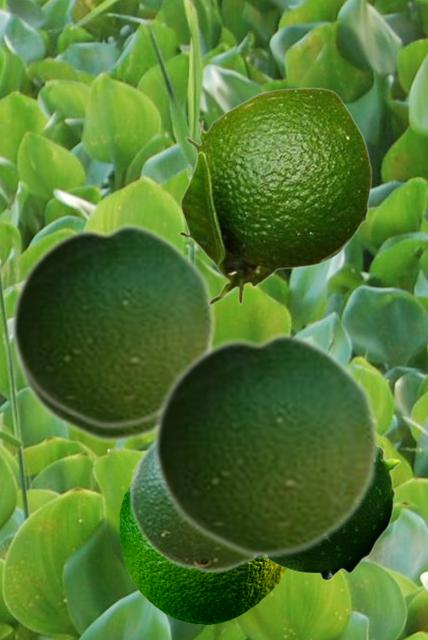dalandan: (151, 329, 380, 560), (9, 220, 216, 430), (177, 87, 371, 305), (119, 485, 287, 623), (269, 446, 400, 580), (128, 440, 255, 573), (14, 358, 152, 444)
